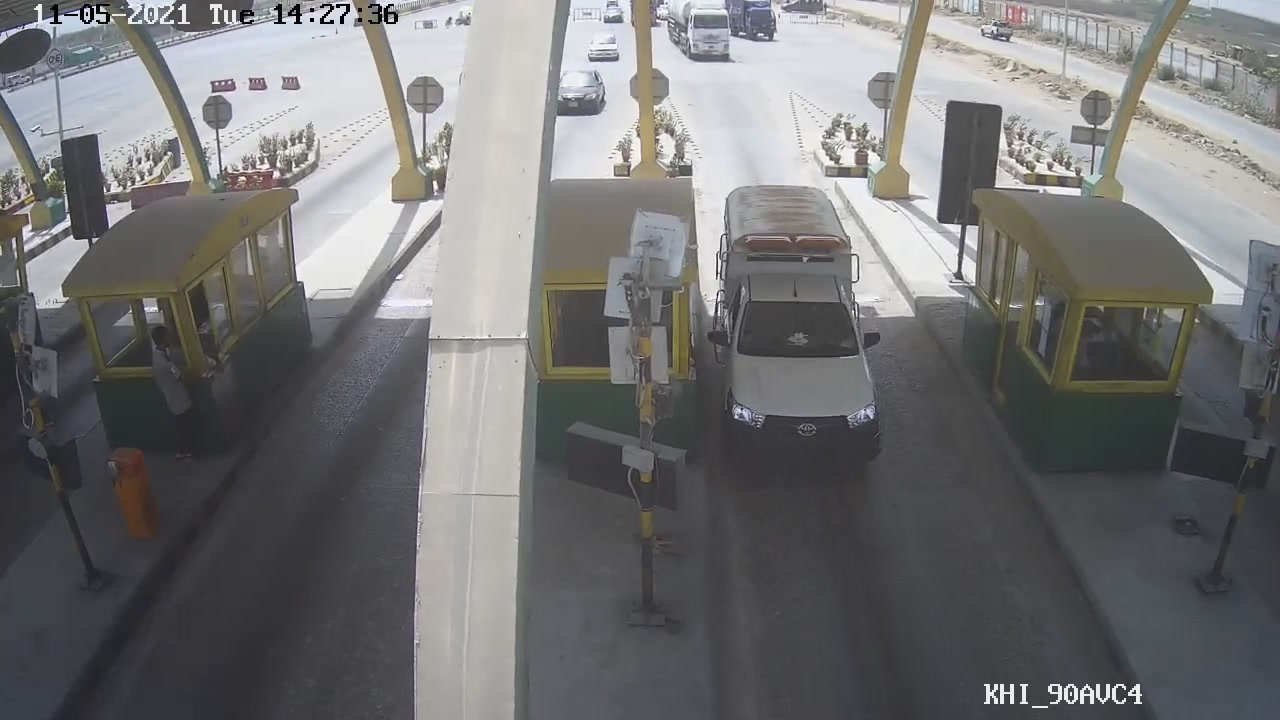F1: (705, 201, 884, 473)
